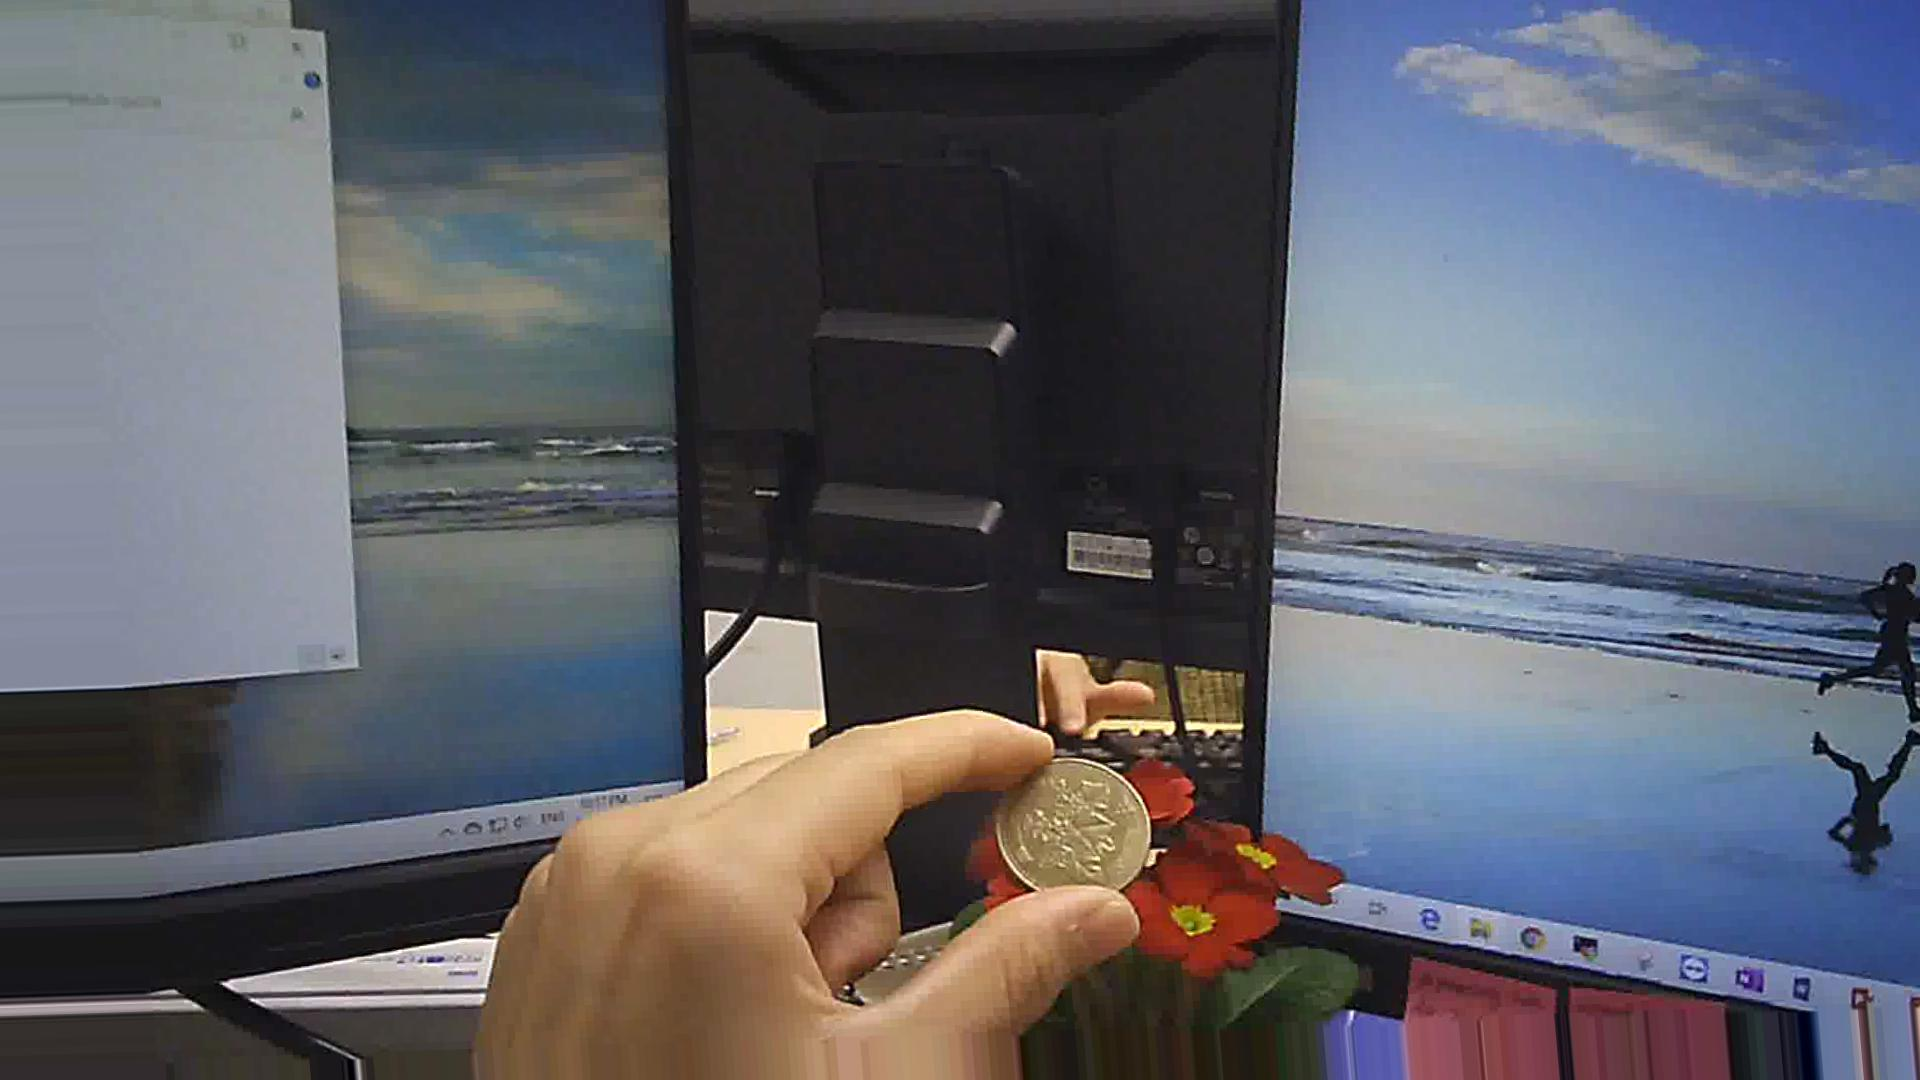500 Yen: (982, 744, 1174, 916)
